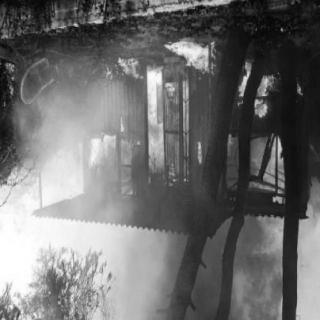Smoke: (131, 215, 277, 319)
